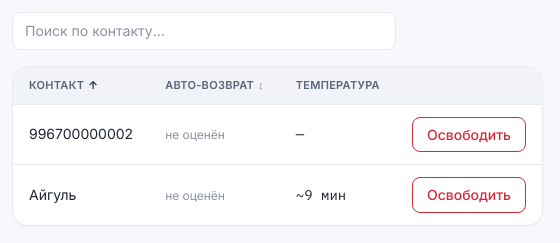
Test: filters by contact via the search input
Type "Айгуль" into the search field named "Поиск активных чатов".
click(204, 31); type("Айгуль")  # box [12,12,396,50]
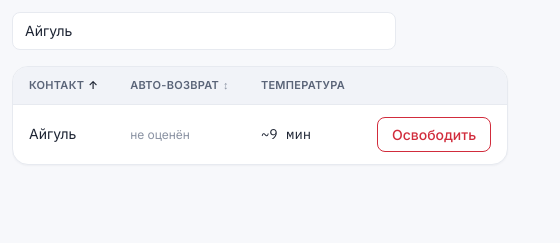
Expected: the text "Айгуль" is shown, [13,104,114,164]
Now the text "996700000002" is gone
